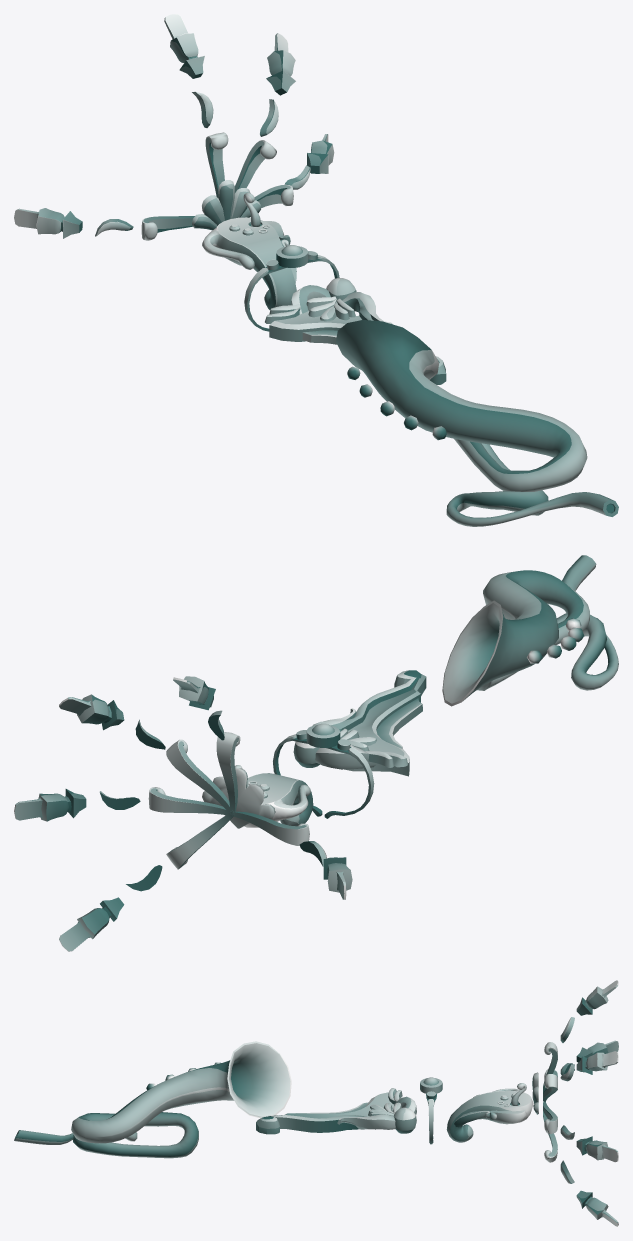
Rendered from Arm_Emotion_B.fbx.
3 renders of one model, top to bottom at view 1: azimuth 30°, elevation 25°; view 2: azimuth 150°, elevation 25°; view 3: azimuth 270°, elevation 25°, orthographic. The views are drawn at different scales.
Parts seen in each view (by area): view 1: Trumpet, Frame, Controller, finger_1, finger_5, finger_2, Plam, finger_3, Wristband; view 2: Trumpet, Frame, finger_3, finger_2, finger_4, finger_1, finger_5, Controller, Wristband, Plam; view 3: Trumpet, Frame, Controller, finger_3, finger_1, finger_2, finger_4, Wristband, finger_5.
Part boxes in pixels (<box>): Trumpet: <box>336,320,618,526</box>; Frame: <box>265,277,446,384</box>; Controller: <box>202,193,296,309</box>; finger_1: <box>164,14,228,198</box>; finger_5: <box>14,208,194,240</box>; finger_2: <box>234,33,295,192</box>; Plam: <box>192,180,260,230</box>; finger_3: <box>254,134,334,208</box>; Wristband: <box>244,245,339,331</box>; Trumpet: <box>442,555,618,706</box>; Frame: <box>293,670,426,776</box>; finger_3: <box>14,787,232,821</box>; finger_2: <box>59,694,233,814</box>; finger_4: <box>59,812,233,951</box>; finger_1: <box>173,676,240,814</box>; finger_5: <box>232,811,352,899</box>; Controller: <box>235,765,313,827</box>; Wristband: <box>273,723,374,818</box>; Plam: <box>202,768,275,828</box>; Trumpet: <box>14,1041,291,1158</box>; Frame: <box>256,1088,416,1134</box>; Controller: <box>446,1083,533,1142</box>; finger_3: <box>543,1101,618,1162</box>; finger_1: <box>543,980,618,1093</box>; finger_2: <box>543,1051,618,1101</box>; finger_4: <box>543,1111,618,1226</box>; Wristband: <box>420,1077,442,1144</box>; finger_5: <box>544,1040,618,1079</box>.
Size of the model in its own units: 32.21 by 27.89 by 73.78.
